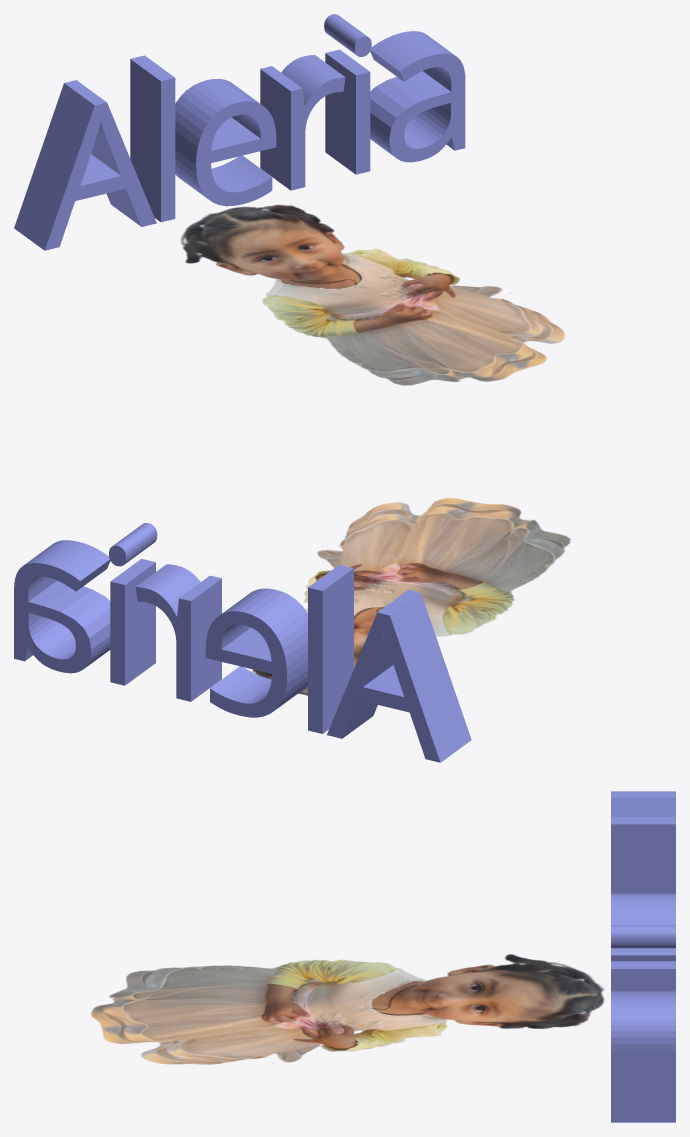
The model's file is AleTest.glb.
3 views of the same model, one above another, from view 1: azimuth 30°, elevation 25°; view 2: azimuth 150°, elevation 25°; view 3: azimuth 270°, elevation 25° (orthographic). The views are drawn at different scales.
Parts seen in each view (by area): view 1: ale, 3D Text - A, 3D Text - a, 3D Text - e, 3D Text - l, 3D Text - r, 3D Text - i; view 2: ale, 3D Text - A, 3D Text - a, 3D Text - e, 3D Text - l, 3D Text - r, 3D Text - i; view 3: ale, 3D Text - a, 3D Text - l, 3D Text - i, 3D Text - e, 3D Text - A, 3D Text - r.
Part boxes in pixels (x1,y1,x2,y2): ale: [180, 205, 564, 385]; 3D Text - A: [14, 80, 156, 250]; 3D Text - a: [370, 31, 465, 162]; 3D Text - e: [175, 79, 276, 206]; 3D Text - l: [130, 55, 175, 222]; 3D Text - r: [260, 55, 345, 190]; 3D Text - i: [324, 14, 371, 174]; ale: [252, 498, 570, 695]; 3D Text - A: [327, 589, 471, 762]; 3D Text - a: [14, 540, 110, 673]; 3D Text - e: [205, 588, 307, 717]; 3D Text - l: [308, 565, 353, 733]; 3D Text - r: [135, 564, 221, 701]; 3D Text - i: [109, 523, 157, 685]; ale: [91, 954, 604, 1064]; 3D Text - a: [611, 991, 675, 1122]; 3D Text - l: [611, 817, 675, 893]; 3D Text - i: [611, 925, 675, 991]; 3D Text - e: [611, 893, 675, 925]; 3D Text - A: [611, 791, 675, 816]; 3D Text - r: [611, 948, 675, 961].
Size of the model in its own units: 0.1186 by 0.0385 by 0.1531.
Materials: 2 (1 with a texture image).
